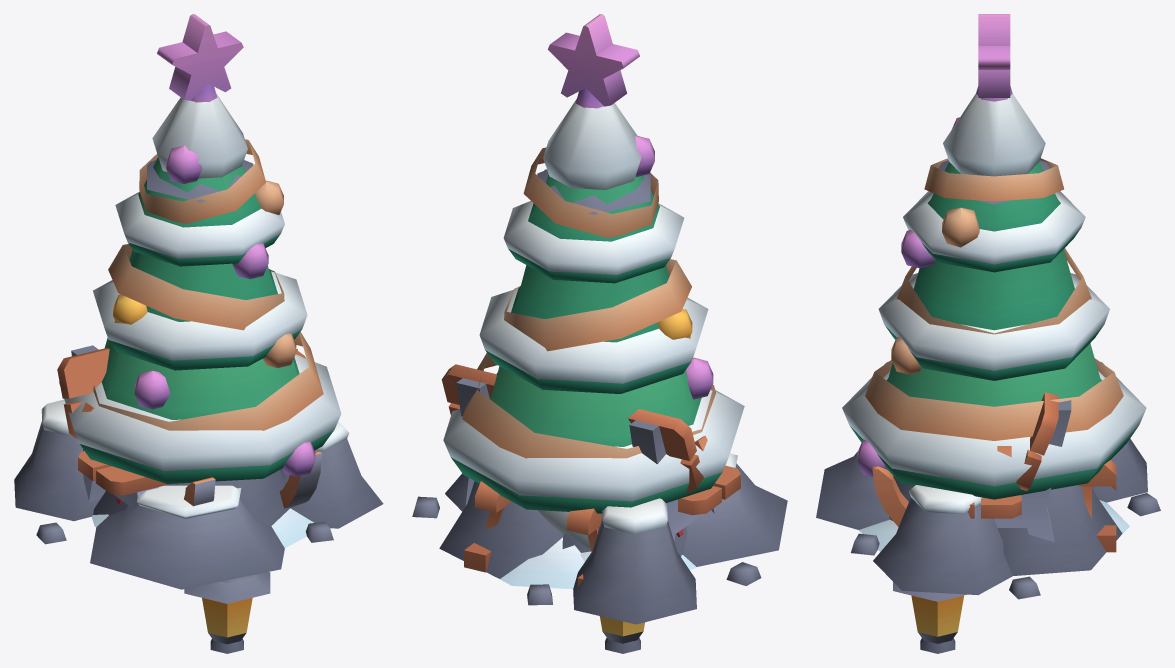
File: props.glb
3 views of the same model, side by side, from view 1: azimuth 30°, elevation 25°; view 2: azimuth 150°, elevation 25°; view 3: azimuth 270°, elevation 25° (orthographic). The views are drawn at different scales.
Parts seen in each view (by area): view 1: tree-decorated, tree-decorated-snow, rocks-small, bench, lantern-hanging, sled, lantern, snow-pile; view 2: tree-decorated, tree-decorated-snow, rocks-small, bench, snow-pile, sled, lantern-hanging, lantern, snowman-hat; view 3: tree-decorated, tree-decorated-snow, rocks-small, bench, lantern-hanging, sled, snow-pile.
Boxes of the visible parts, x1,y1,x2,y2 form: tree-decorated: [80, 14, 333, 483]; tree-decorated-snow: [59, 93, 341, 470]; rocks-small: [14, 399, 383, 589]; bench: [57, 345, 297, 512]; lantern-hanging: [184, 572, 270, 653]; sled: [184, 451, 321, 508]; lantern: [147, 160, 253, 202]; snow-pile: [91, 508, 313, 548]; tree-decorated: [451, 14, 722, 513]; tree-decorated-snow: [443, 99, 744, 501]; rocks-small: [412, 453, 787, 624]; bench: [441, 364, 740, 540]; snow-pile: [499, 537, 696, 589]; sled: [464, 481, 602, 586]; lantern-hanging: [599, 616, 644, 653]; lantern: [537, 170, 650, 214]; snowman-hat: [538, 510, 590, 548]; tree-decorated: [850, 14, 1138, 499]; tree-decorated-snow: [842, 94, 1146, 486]; rocks-small: [816, 438, 1160, 599]; bench: [968, 392, 1071, 541]; lantern-hanging: [893, 582, 966, 653]; sled: [872, 460, 1116, 552]; snow-pile: [859, 500, 1129, 551].
Size of the model in its own units: 1.54 by 2.86 by 1.41.
1 material, 1 textured.
